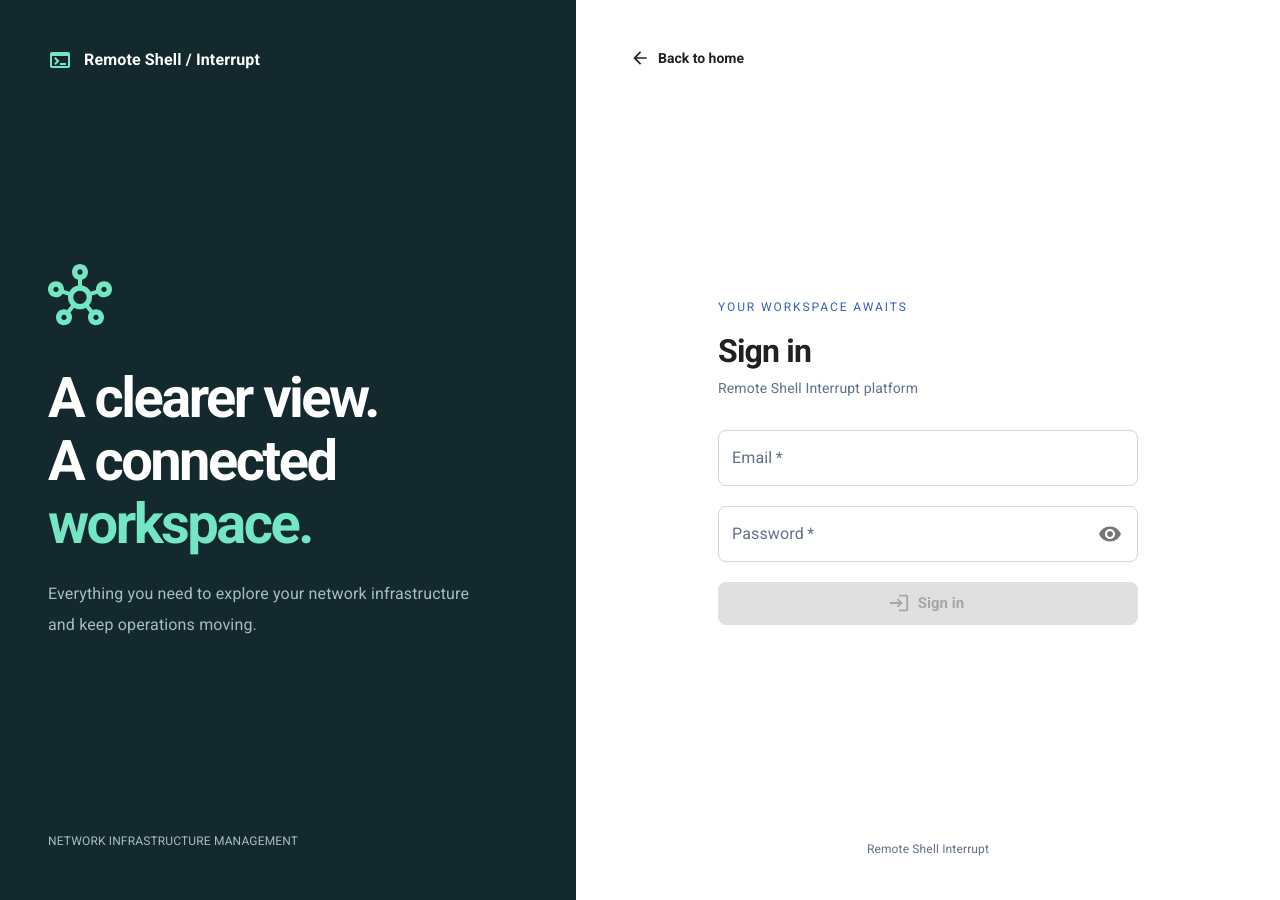
Test: sign-in flow › toggles password visibility without changing its value
In the password field labelled "Password *": (902, 534) [718,506,1085,562], type "secret"
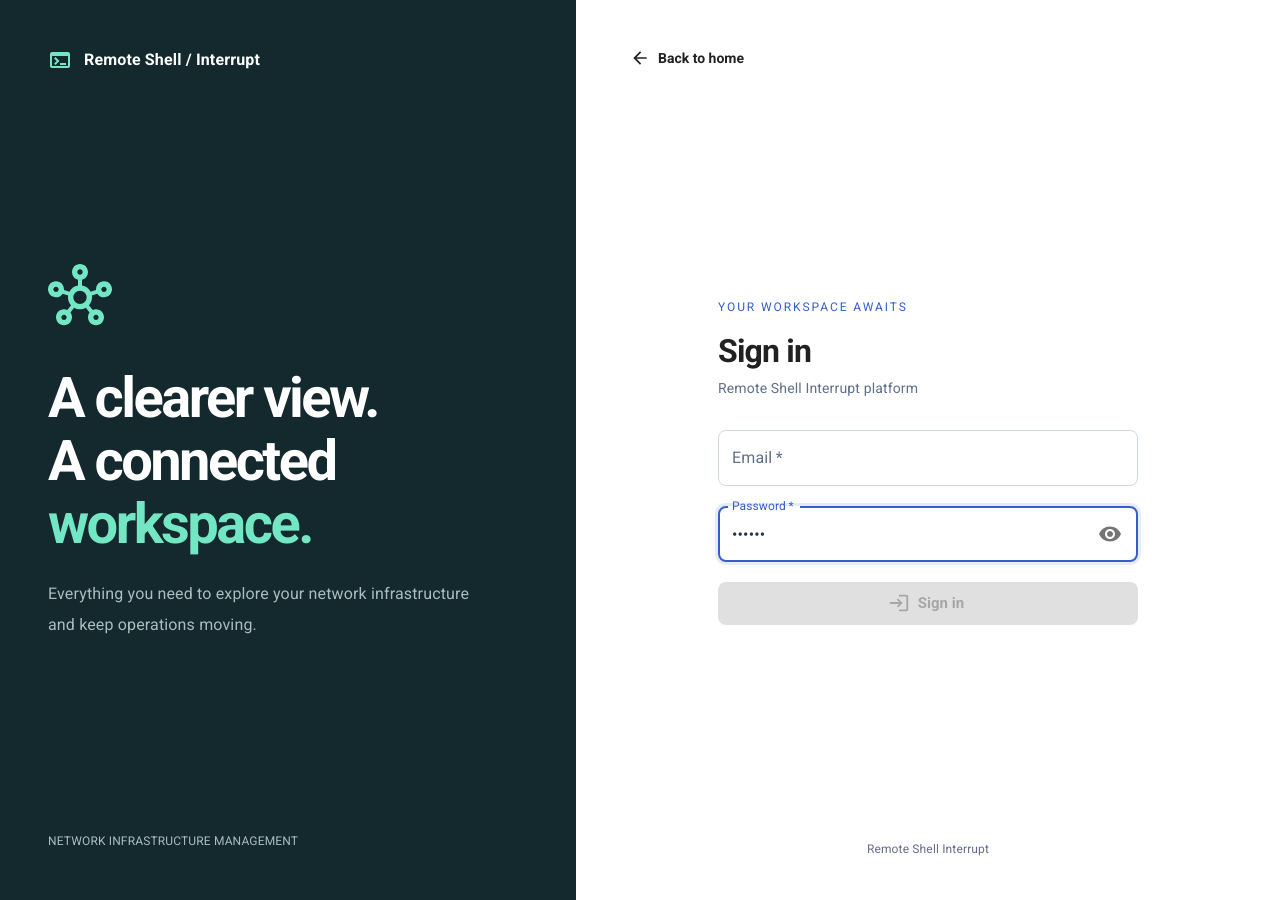
Click the button named "Show password": click(1110, 534) [1093,517,1127,551]
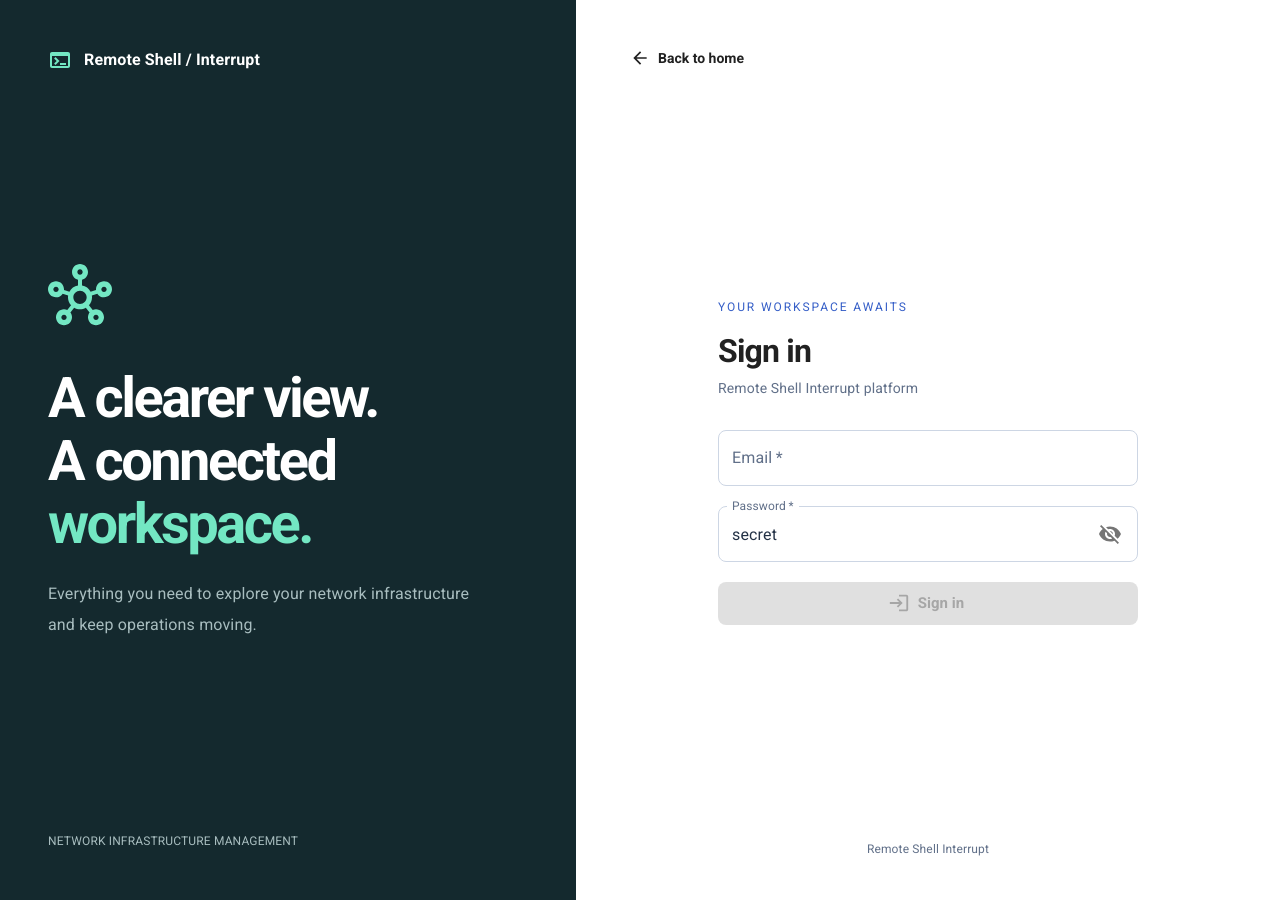
Now the field labelled "Password *" shows its text, box [718,506,1085,562]
Click the button named "Hide password": click(1110, 534) [1093,517,1127,551]
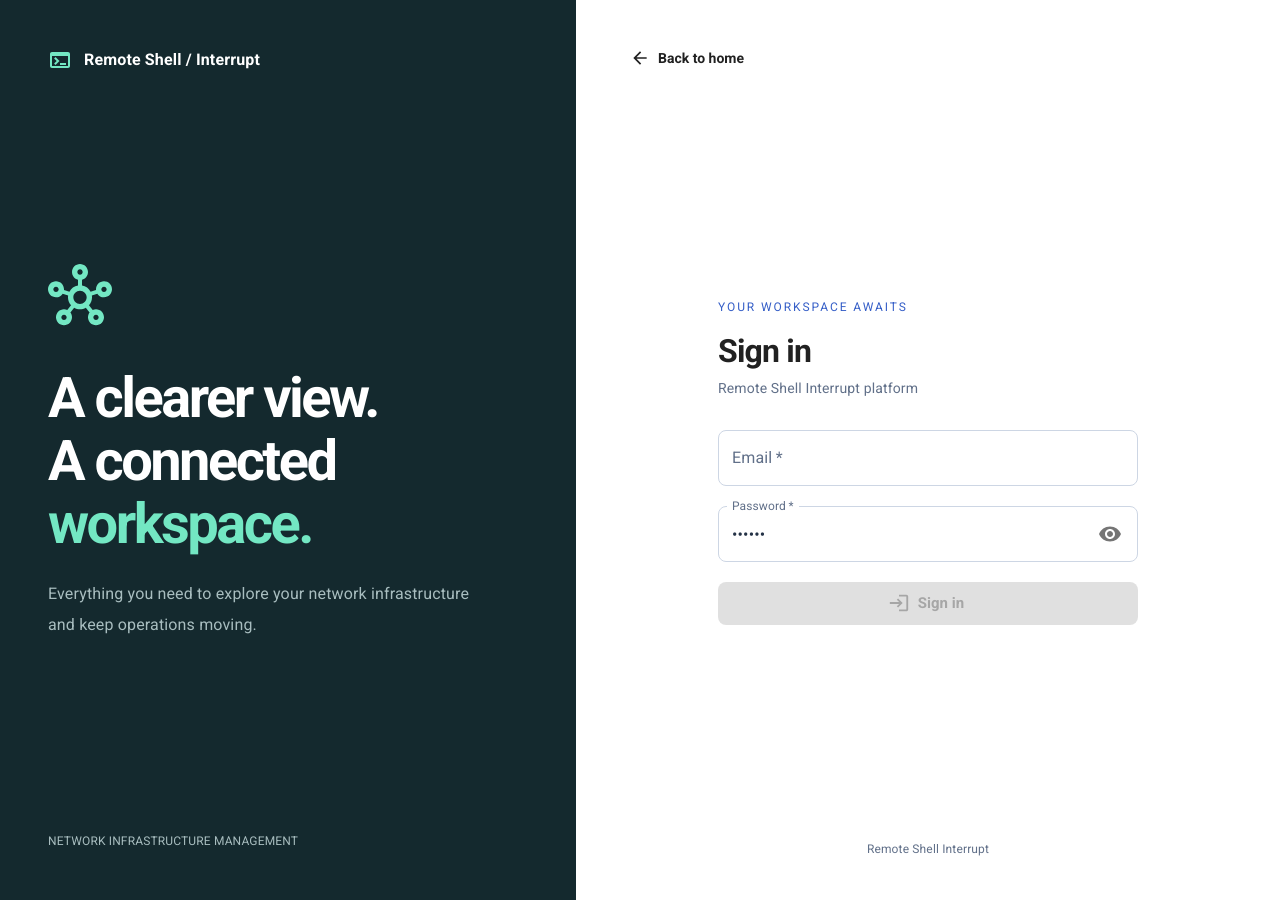
Now the password field labelled "Password *" hides its text, box [718,506,1085,562]
